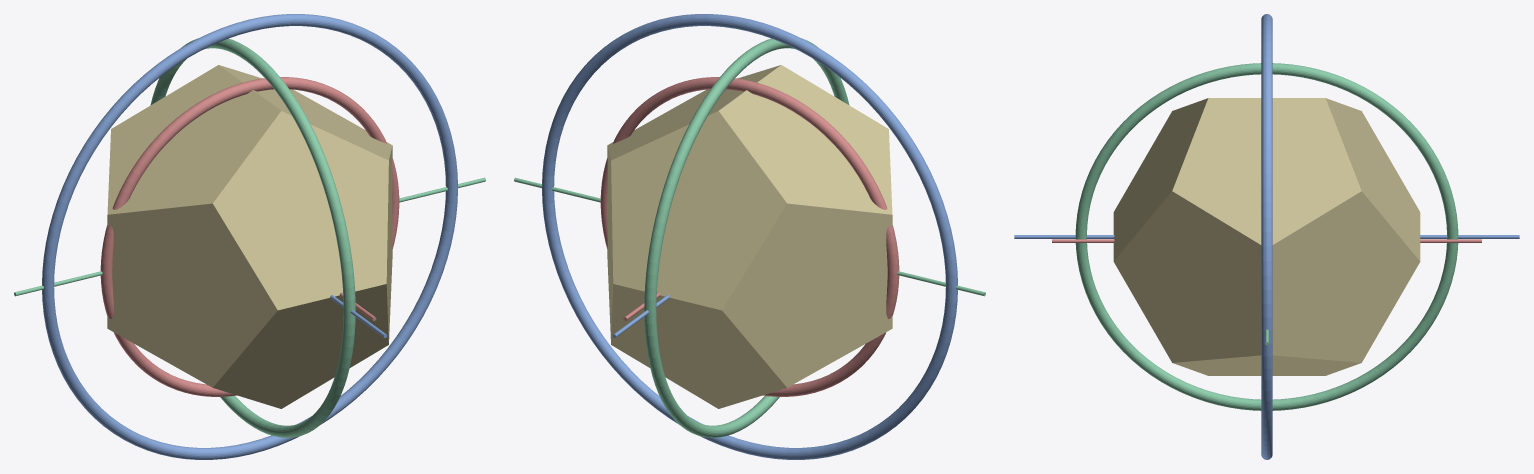
Rendered from dodecahedron_gimbal_lock.glb.
3 views of the same model, side by side, from view 1: azimuth 30°, elevation 25°; view 2: azimuth 150°, elevation 25°; view 3: azimuth 270°, elevation 25° (orthographic). The views are drawn at different scales.
Visible parts, largest first — view 1: g0, g1, g2, g3, g4; view 2: g0, g1, g2, g3, g4; view 3: g0, g2, g1, g5.
Part boxes in pixels (box(x1,y1,x2,y2)): g0: box(107, 65, 392, 408); g1: box(42, 14, 457, 459); g2: box(150, 38, 355, 437); g3: box(100, 77, 399, 396); g4: box(14, 177, 485, 296); g0: box(607, 65, 892, 408); g1: box(542, 14, 957, 459); g2: box(644, 38, 849, 437); g3: box(600, 77, 899, 396); g4: box(514, 177, 985, 296); g0: box(1113, 98, 1420, 375); g2: box(1075, 63, 1458, 410); g1: box(1261, 14, 1272, 459); g5: box(1014, 235, 1519, 238).
Size of the model in its own units: 4 by 3.53 by 4.
